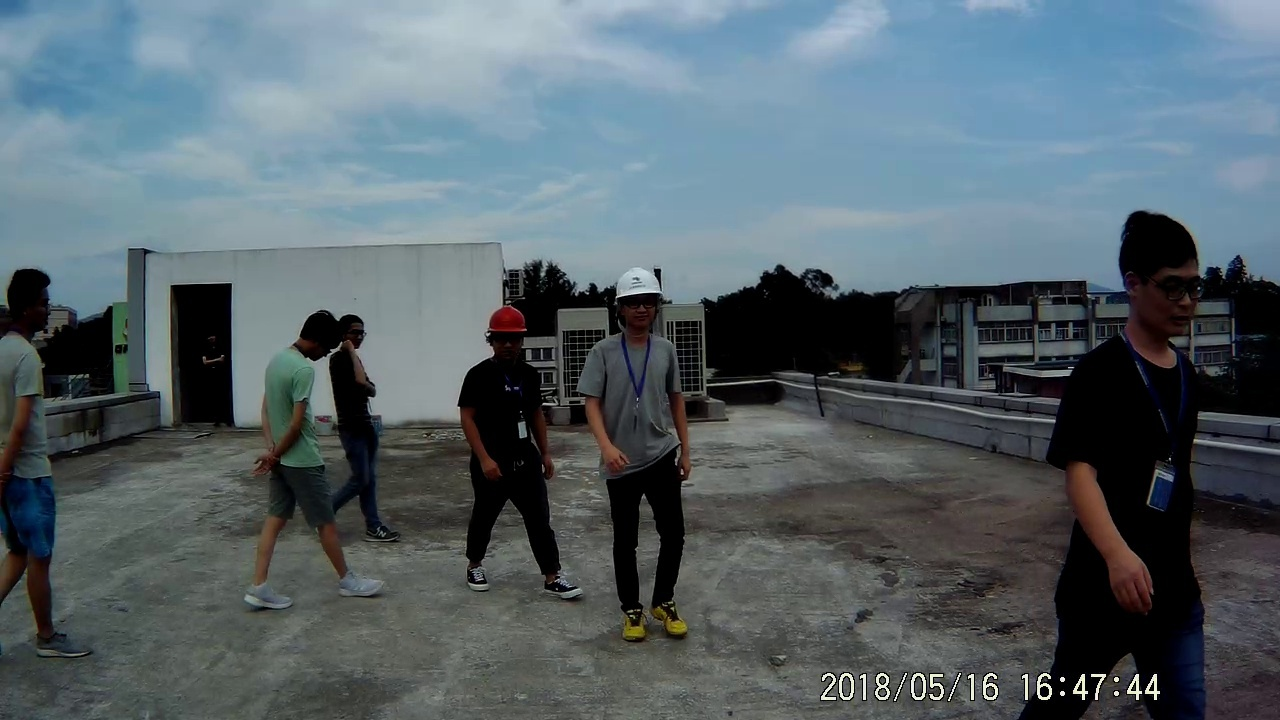none: (1111, 204, 1208, 351), (4, 261, 55, 341), (296, 304, 341, 364), (334, 310, 367, 353)
red: (481, 302, 528, 361)
white: (609, 262, 667, 337)
